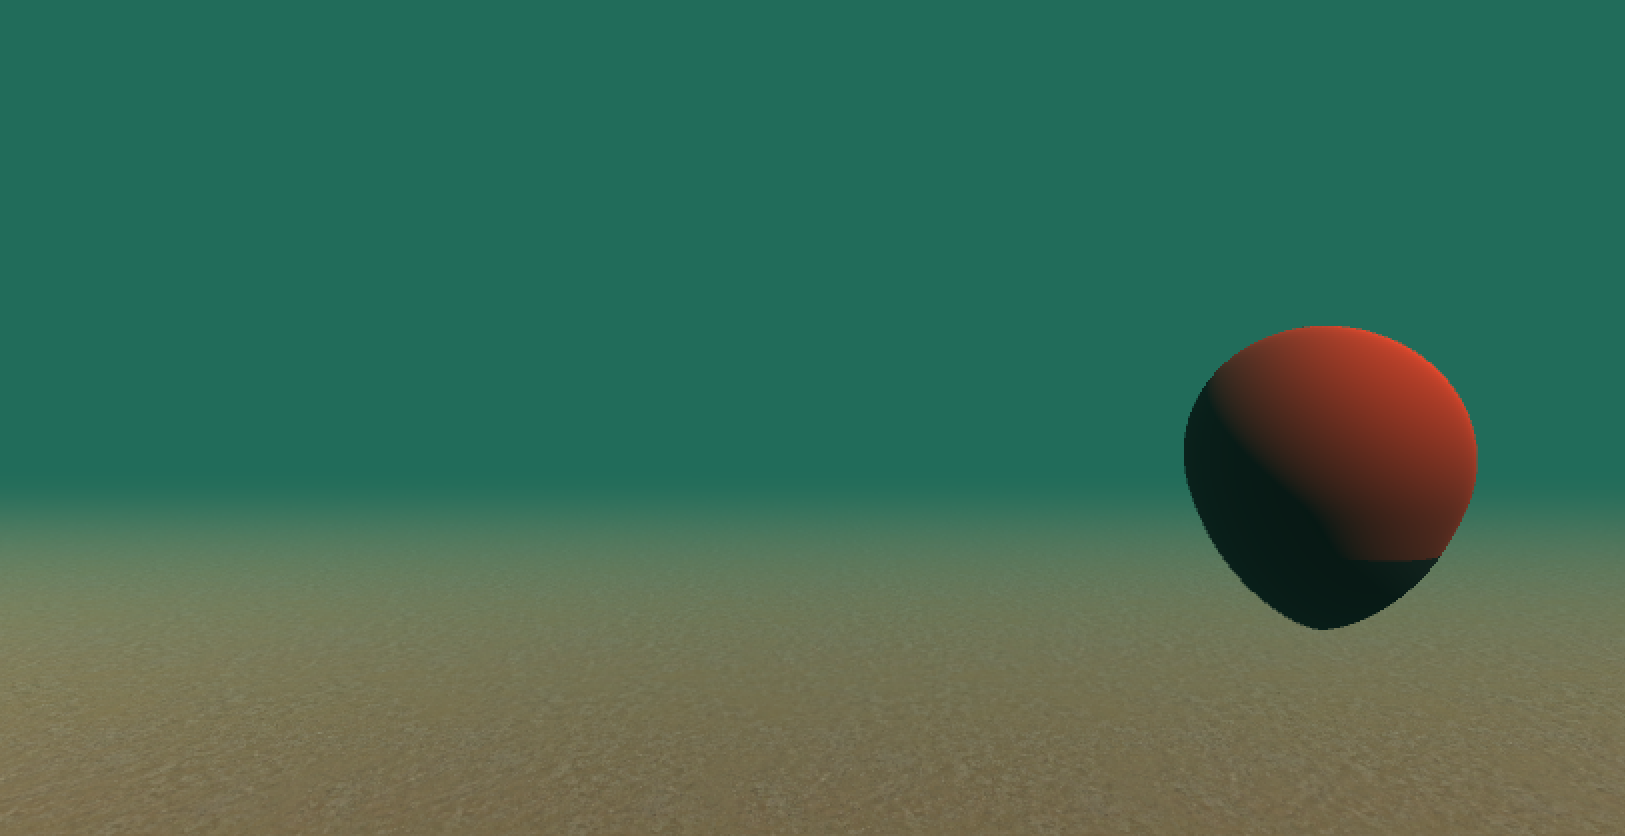orange buoy: (1180, 323, 1483, 636)
